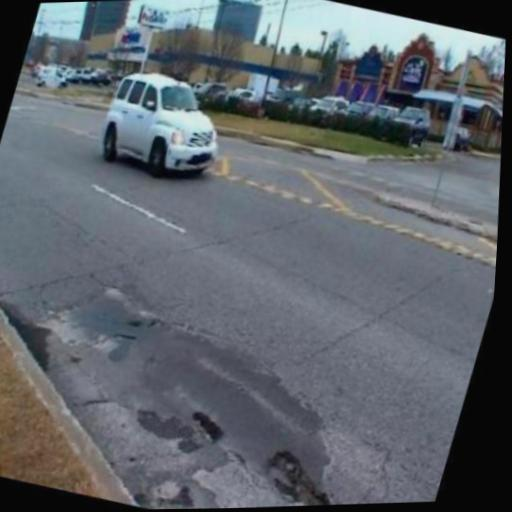pothole: (271, 450, 330, 506), (191, 411, 223, 443)
